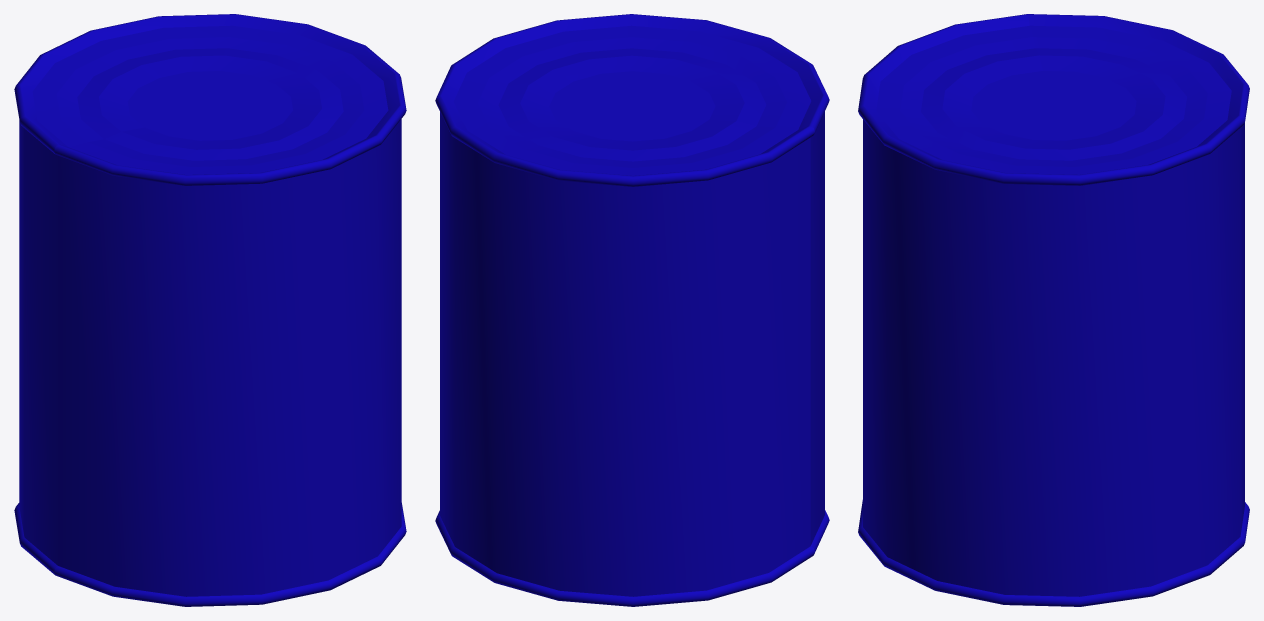
The model's file is Говядина.fbx.
The picture shows the model from 3 angles, left to right: view 1: azimuth 30°, elevation 25°; view 2: azimuth 150°, elevation 25°; view 3: azimuth 270°, elevation 25°; orthographic projection.
Parts seen in each view (by area): view 1: 2; view 2: 2; view 3: 2.
Part boxes in pixels (x1=…): 2: x1=14, y1=14, x2=406, y2=606; 2: x1=435, y1=14, x2=829, y2=606; 2: x1=858, y1=14, x2=1249, y2=606.
Bounding box in the file's own units: 80.52 × 97.71 × 80.52.
